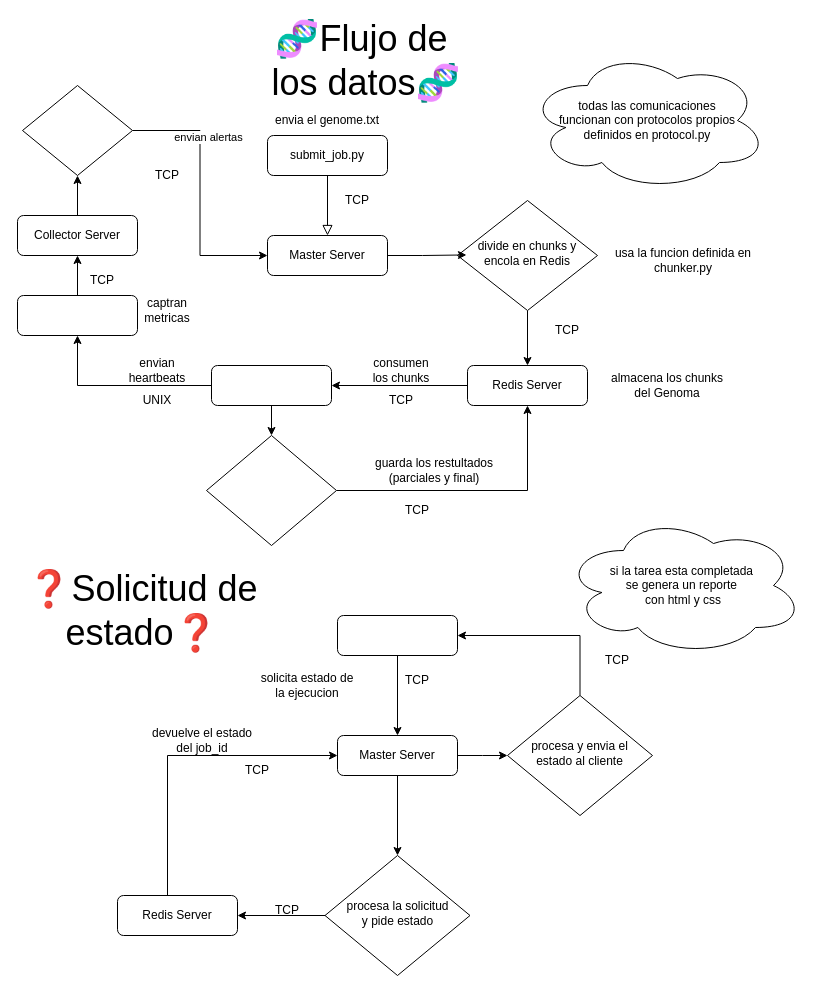
Some shapes in this 821 by 993 pixel diagram are drawn without their labels. Here are the shapes that lost their labels. From the top down, the box of each, then its label:
(22, 84, 132, 176): procesan las metricas
(16, 294, 138, 336): Agentes
(210, 364, 332, 406): Workers
(206, 434, 336, 546): Buscan el patron solicitado
(336, 614, 458, 656): query_job
